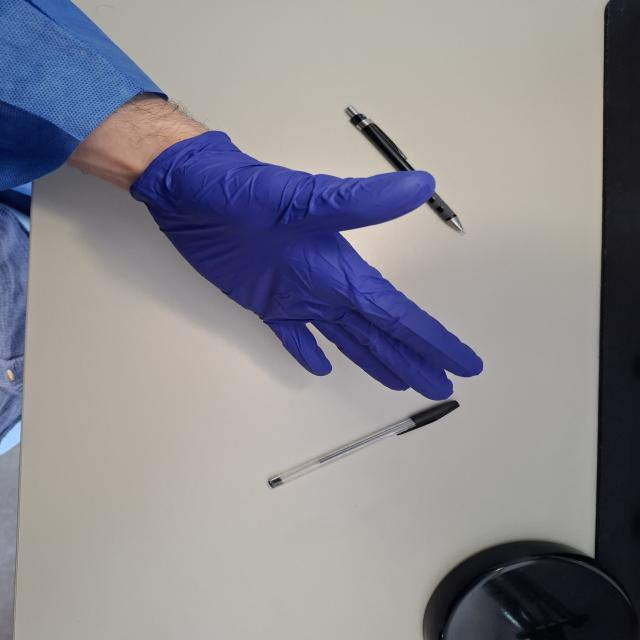glove_on: (125, 128, 486, 402)
